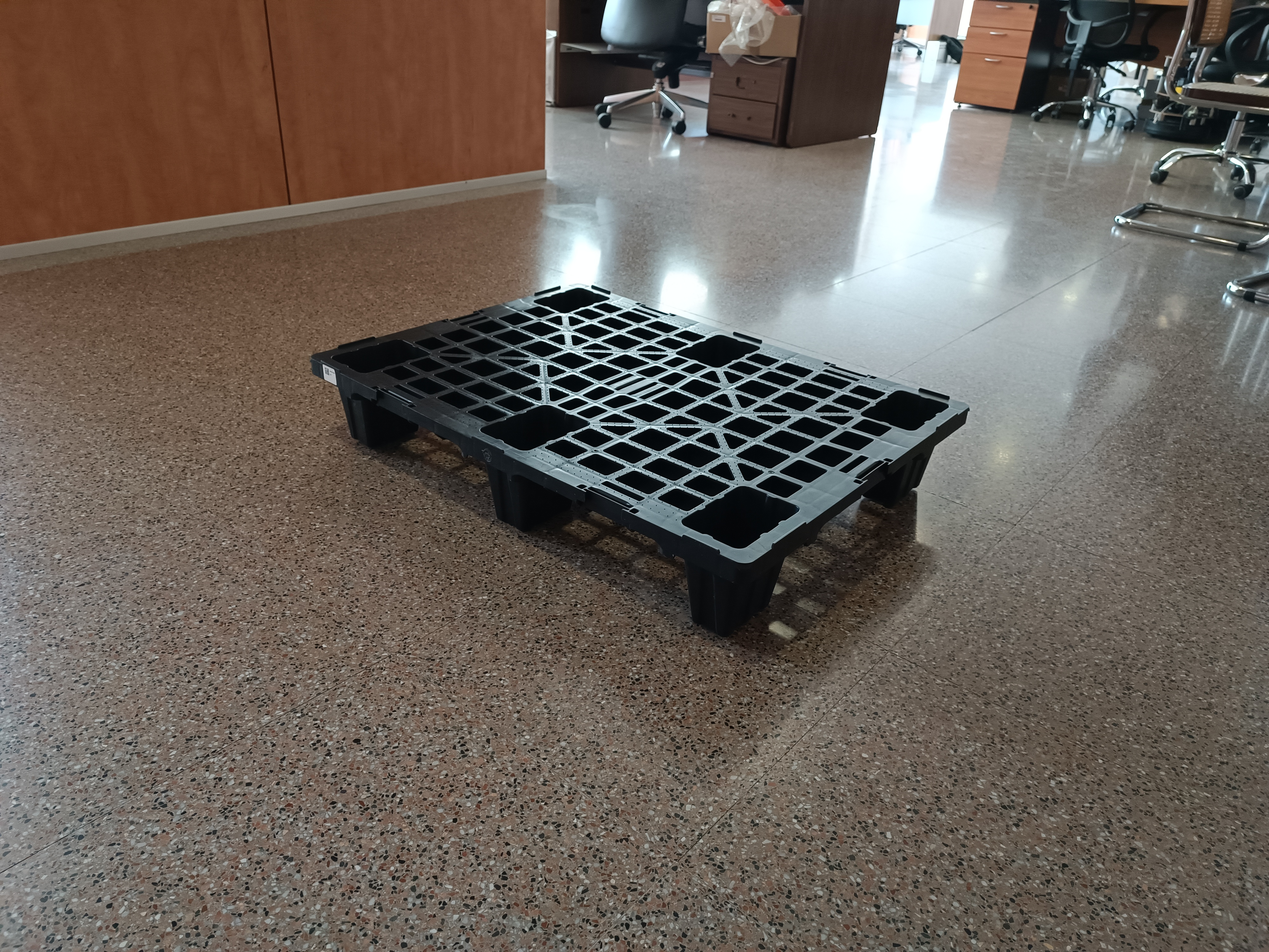block: (692, 561, 786, 637), (495, 468, 553, 541), (888, 436, 940, 505), (336, 400, 388, 453)
front: (310, 368, 746, 657)
hole pallet: (539, 485, 690, 619), (378, 414, 500, 522)
